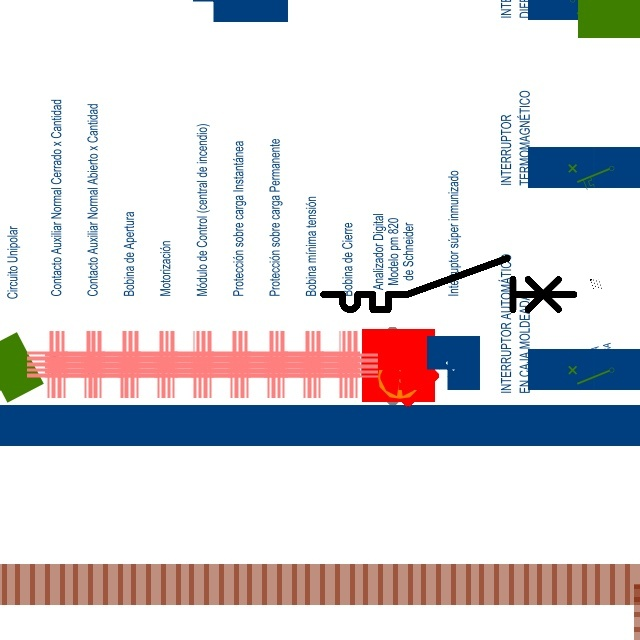interruptor_termomagnetico: (317, 252, 580, 316)
